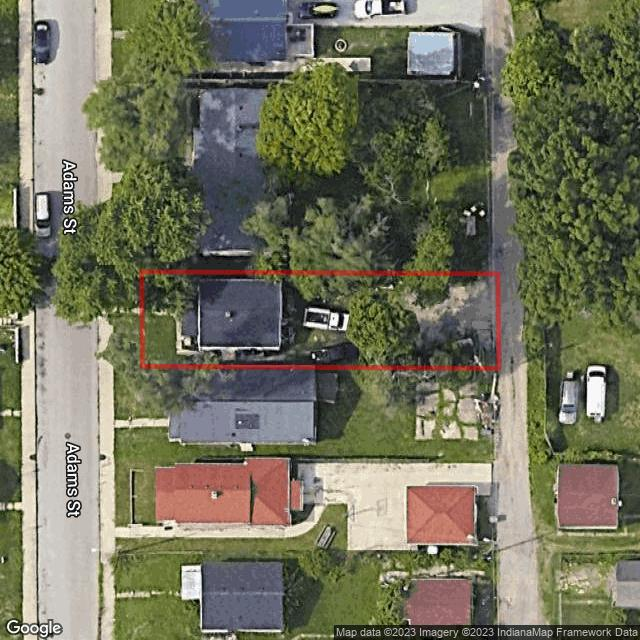Driveway: (404, 278, 497, 366), (147, 304, 178, 316)
Extra Driveway: (109, 306, 139, 318)
Extra Lawn: (114, 317, 141, 367)
Extra Sidewalk: (99, 316, 114, 368)
House: (179, 279, 281, 353)
